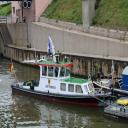tugboat: (11, 35, 124, 111)
